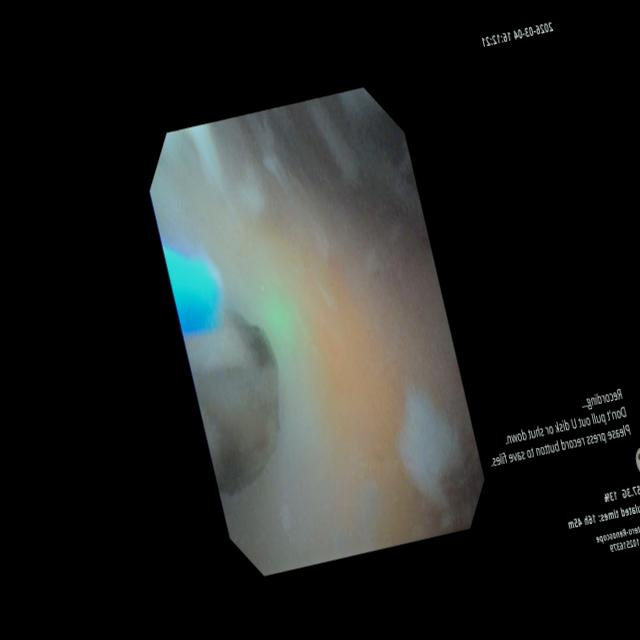laser_dot: (263, 290, 296, 342)
stone-new: (232, 87, 418, 212), (183, 310, 279, 494), (440, 425, 484, 531)
